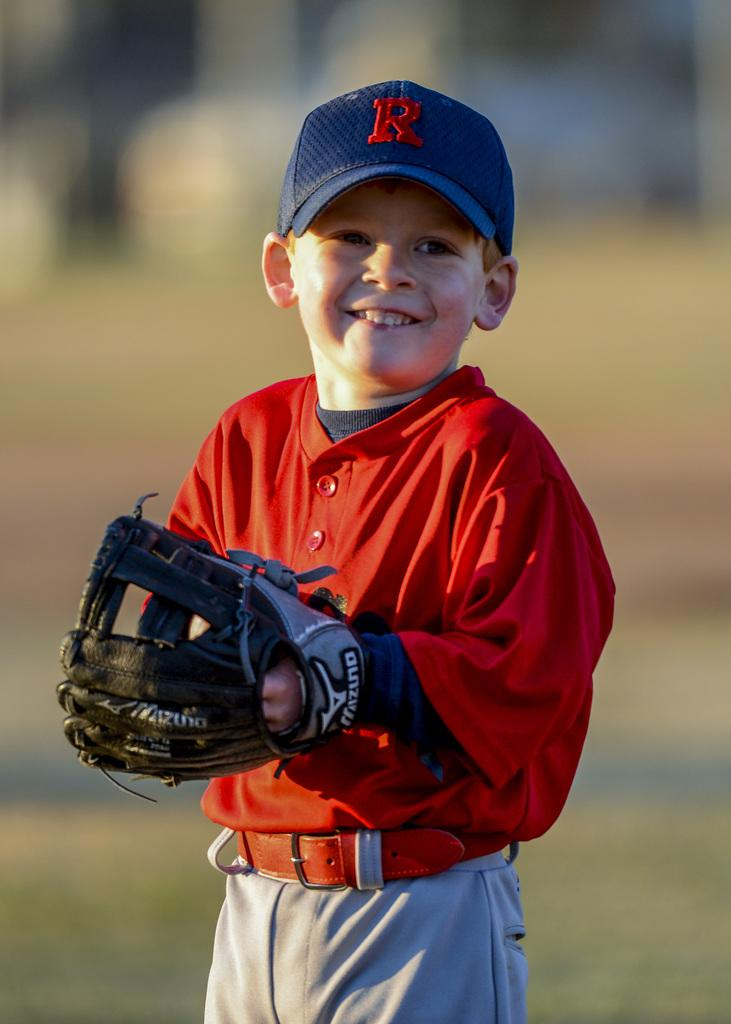Hat: (273, 76, 516, 266)
